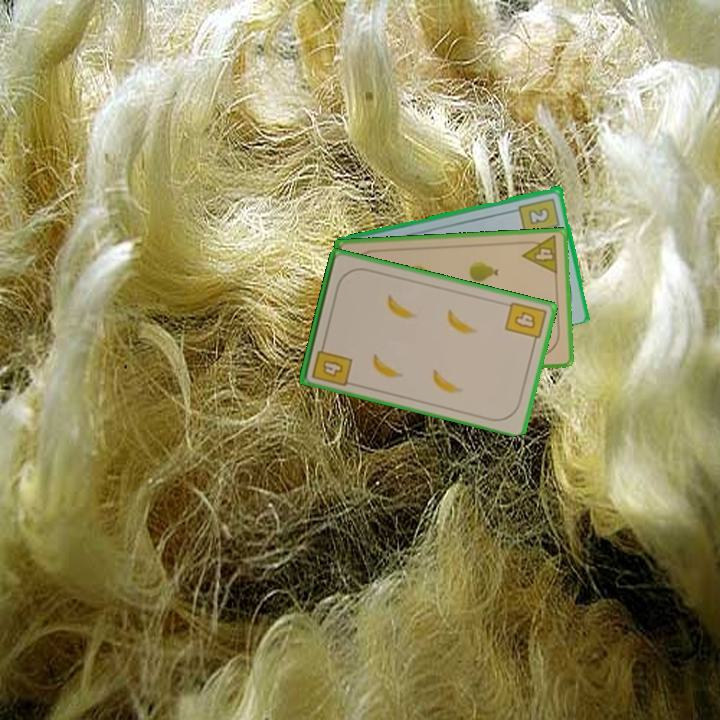2b: (516, 194, 563, 236)
4b: (501, 298, 549, 348), (308, 338, 355, 389)
4p: (519, 232, 561, 277)
